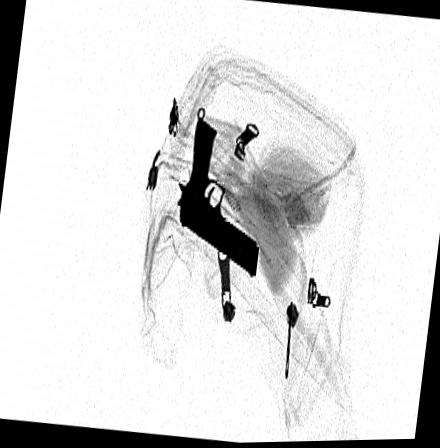Gun: (176, 117, 262, 279)
